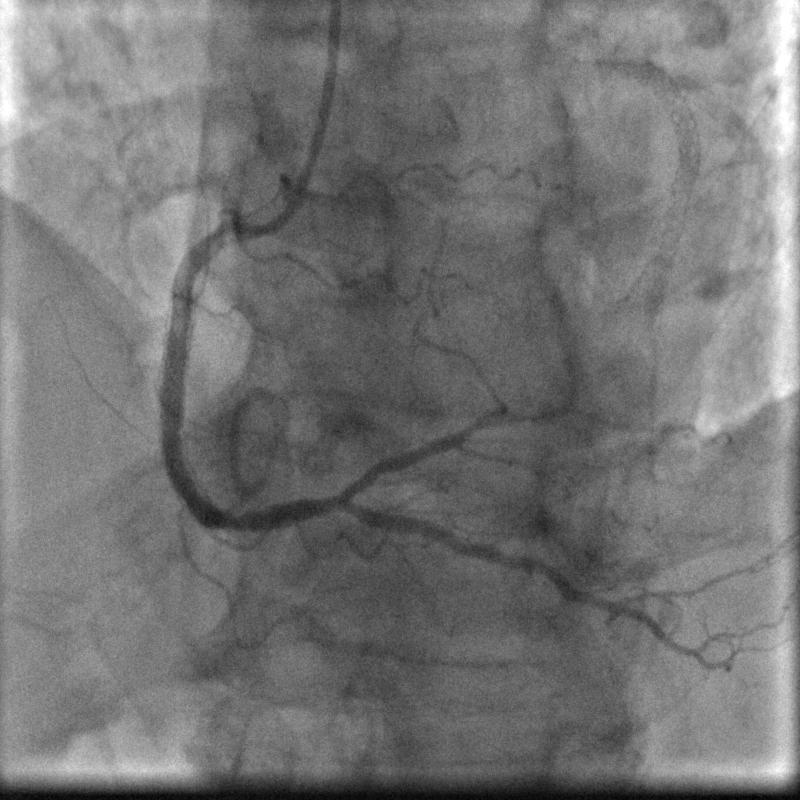Stenosis: (192, 211, 240, 262)
